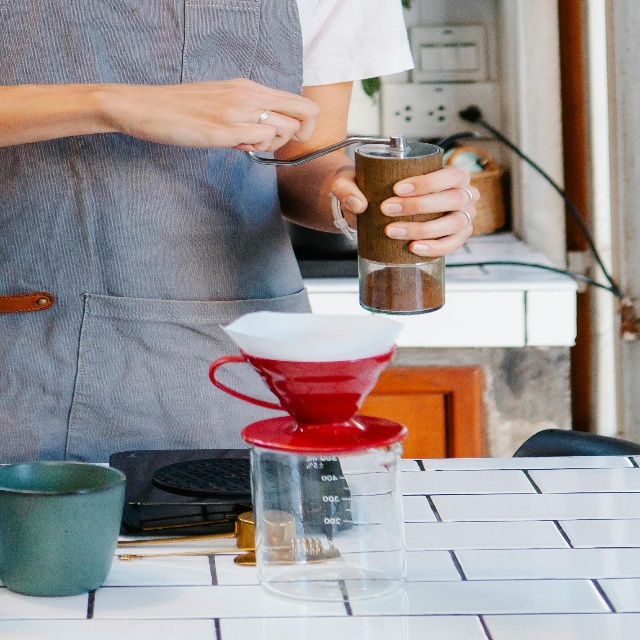Sin_guantes: (116, 77, 320, 153), (329, 161, 481, 257)
